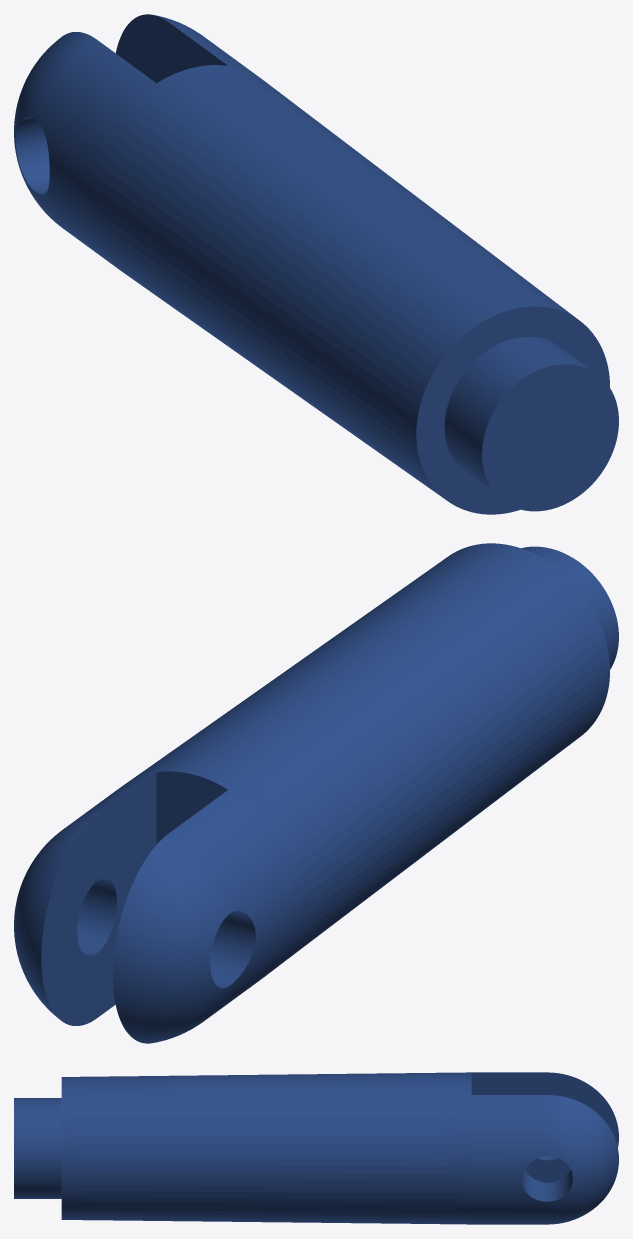
3 views of the same model, one above another, from view 1: azimuth 30°, elevation 25°; view 2: azimuth 150°, elevation 25°; view 3: azimuth 270°, elevation 25° (orthographic). The views are drawn at different scales.
Parts seen in each view (by area): view 1: node; view 2: node; view 3: node.
Boxes of the visible parts, box(x1,y1,x2,y2) form: node: box(14, 14, 618, 514); node: box(14, 543, 618, 1043); node: box(14, 1072, 618, 1224).
Size of the model in its own units: 0.0928 by 0.0927 by 0.3689.
